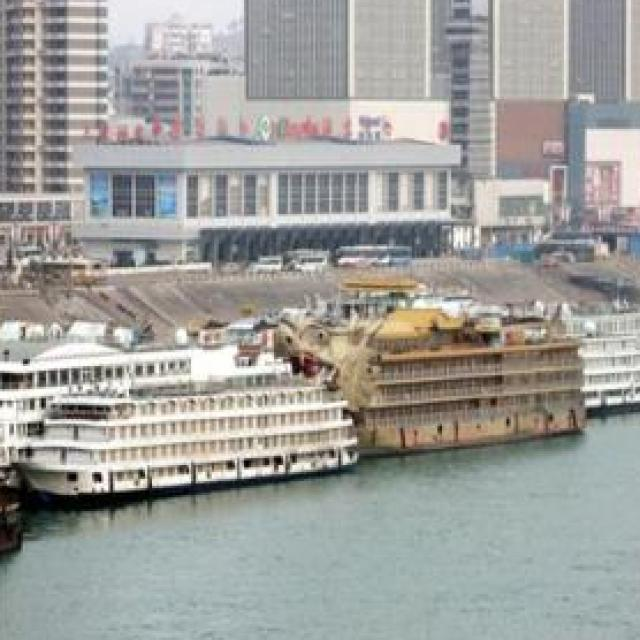passenger ship: (315, 309, 588, 447), (23, 387, 356, 496), (564, 325, 640, 412)
